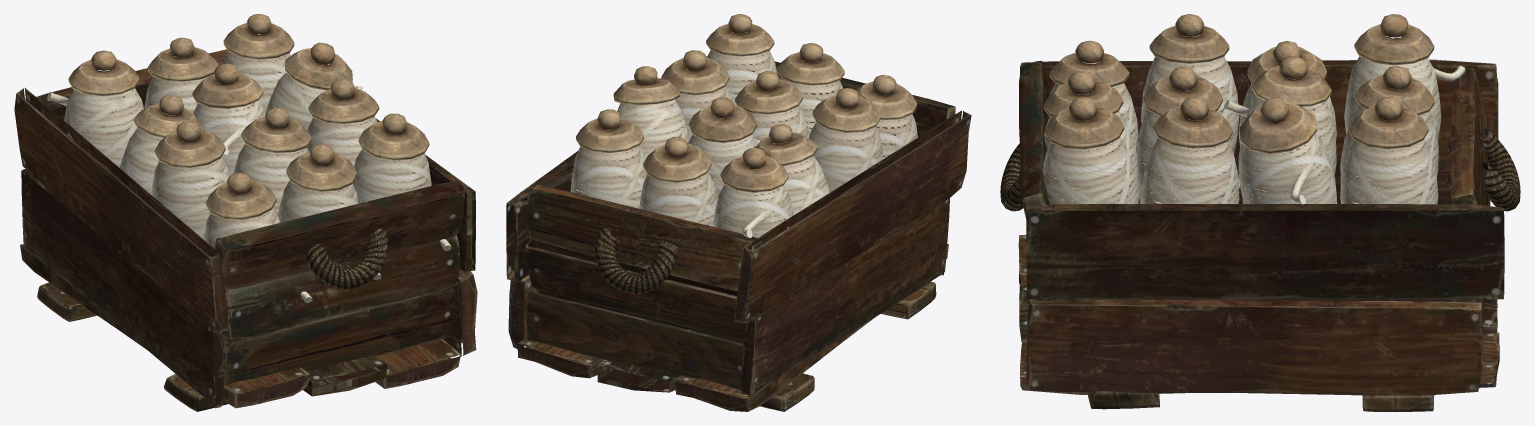
The picture shows the model from 3 angles, left to right: view 1: azimuth 30°, elevation 25°; view 2: azimuth 150°, elevation 25°; view 3: azimuth 270°, elevation 25°; orthographic projection. The views are drawn at different scales.
Visible parts, largest first — view 1: SM_Dec_Garou_Chest_Thread_Coarse_Small_LOD0; view 2: SM_Dec_Garou_Chest_Thread_Coarse_Small_LOD0; view 3: SM_Dec_Garou_Chest_Thread_Coarse_Small_LOD0.
Boxes of the visible parts, x1,y1,x2,y2 form: SM_Dec_Garou_Chest_Thread_Coarse_Small_LOD0: (14, 14, 477, 411); SM_Dec_Garou_Chest_Thread_Coarse_Small_LOD0: (506, 14, 971, 411); SM_Dec_Garou_Chest_Thread_Coarse_Small_LOD0: (1000, 14, 1520, 411).
Bounding box in the file's own units: 0.6922 × 0.604 × 0.9929.
Materials: 2 (2 with a texture image).
